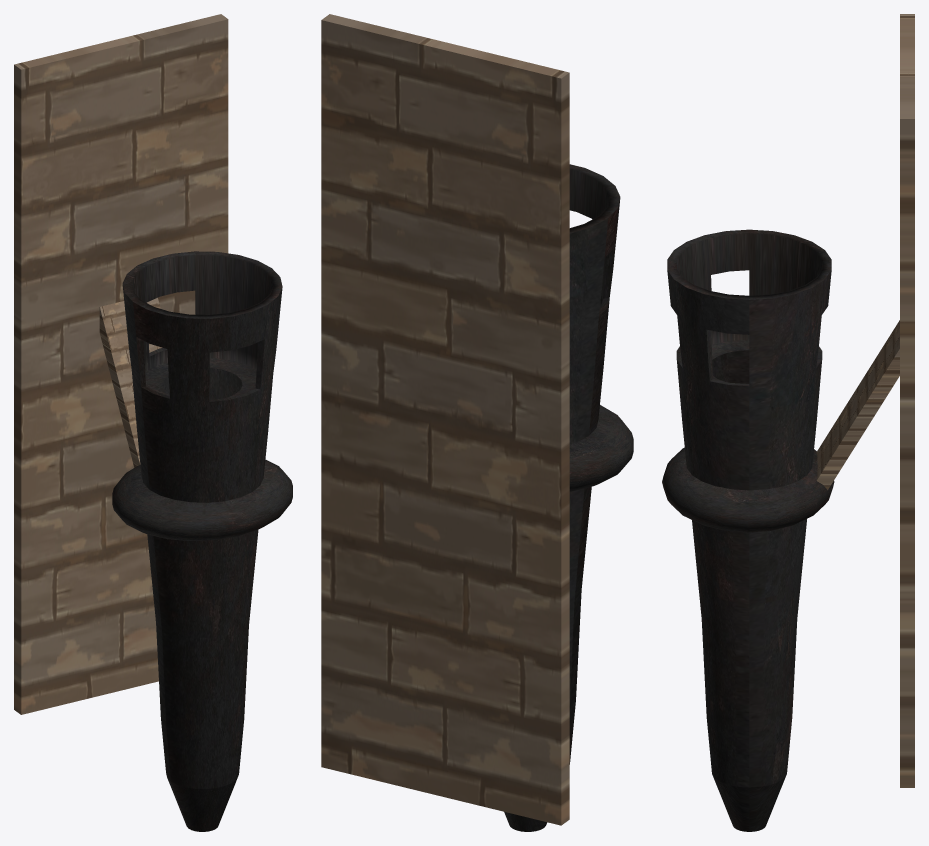
Rendered from torche.fbx.
3 views of the same model, side by side, from view 1: azimuth 30°, elevation 25°; view 2: azimuth 150°, elevation 25°; view 3: azimuth 270°, elevation 25° (orthographic). The views are drawn at different scales.
Parts seen in each view (by area): view 1: pCylinder2; view 2: pCylinder2; view 3: pCylinder2.
Part boxes in pixels (left/top/right/bottom): pCylinder2: left=14, top=14, right=292, bottom=831; pCylinder2: left=321, top=14, right=633, bottom=831; pCylinder2: left=662, top=14, right=914, bottom=831.
Bounding box in the file's own units: 6.02 × 20.28 × 6.14.
